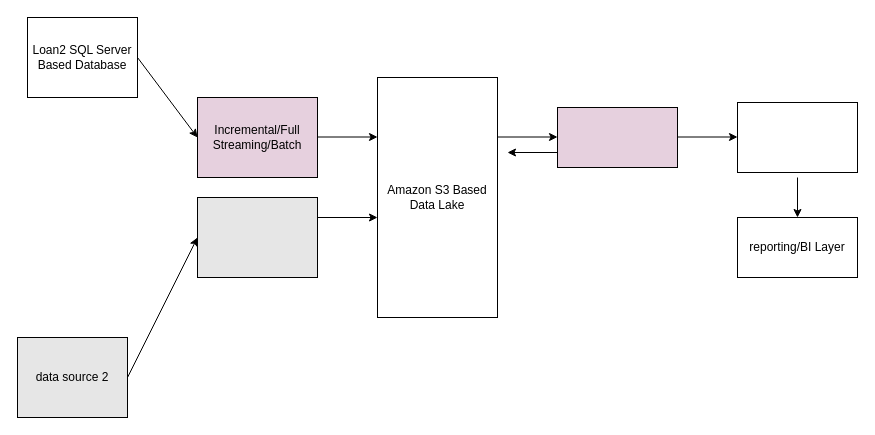
Some shapes in this 875 by 435 pixel diagram are drawn without their labels. Here are the shapes that lost their labels. From the top down, the centre of each, then its label:
the point at 617,137: Transformation processes
the point at 797,137: Processed Database.
the point at 257,237: data migration methodology
